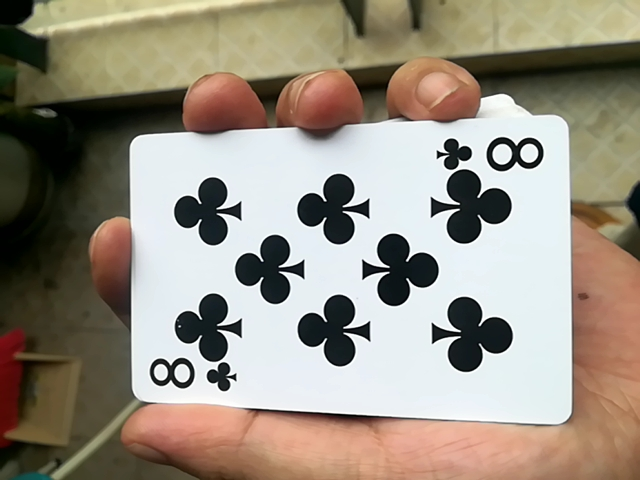mh 8: (118, 120, 556, 434)
